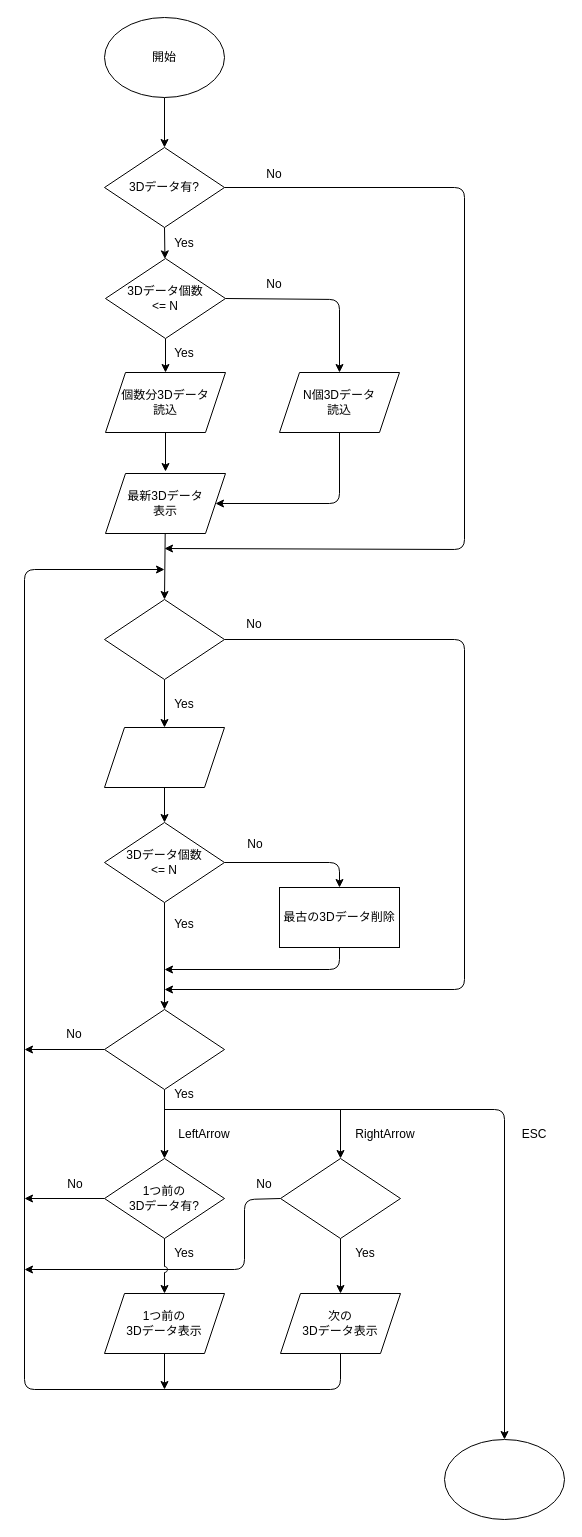
The diagram is 582 pixels wide and 1537 high, and some of its shapes have lost their labels. Each missing label, with the box of its shape:
3Dデータ更新?: (104, 598, 224, 680)
3Dデータ読込: (104, 726, 224, 788)
キー入力 Input.GetKeyDown: (104, 1008, 224, 1090)
次の 3Dデータ有?: (280, 1158, 400, 1238)
終了: (444, 1438, 564, 1520)
